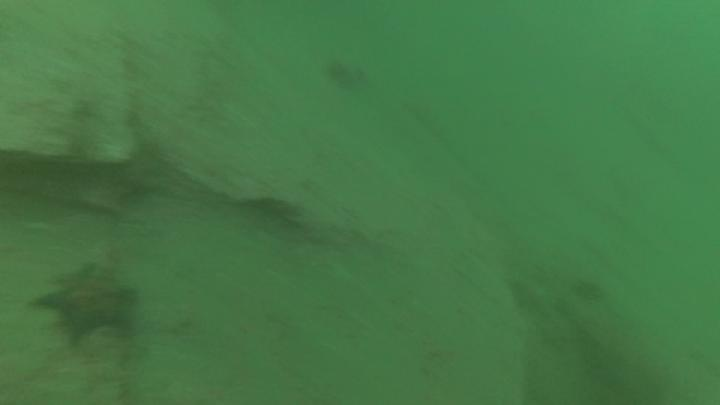starfish: (29, 257, 141, 348)
